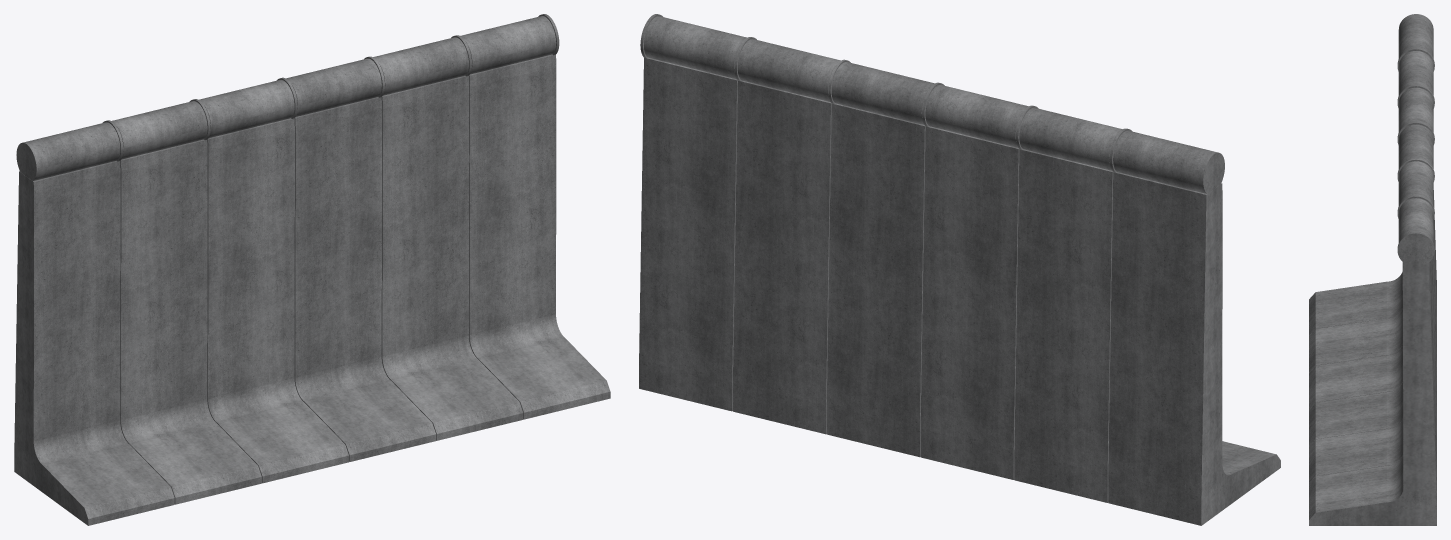
Rendered from Wall_Row6.glb.
3 views of the same model, side by side, from view 1: azimuth 30°, elevation 25°; view 2: azimuth 150°, elevation 25°; view 3: azimuth 270°, elevation 25° (orthographic). The views are drawn at different scales.
Parts seen in each view (by area): view 1: Segment_01_Slab, Segment_02_Slab, Segment_03_Slab, Segment_06_Slab, Segment_04_Slab, Segment_05_Slab, Segment_01_Pipe, Segment_02_Pipe, Segment_03_Pipe, Segment_04_Pipe, Segment_05_Pipe, Segment_06_Pipe; view 2: Segment_01_Slab, Segment_04_Slab, Segment_02_Slab, Segment_03_Slab, Segment_06_Slab, Segment_05_Slab, Segment_01_Pipe, Segment_05_Pipe, Segment_04_Pipe, Segment_06_Pipe, Segment_02_Pipe, Segment_03_Pipe; view 3: Segment_06_Slab, Segment_05_Slab, Segment_04_Slab, Segment_03_Slab, Segment_02_Slab, Segment_01_Slab, Segment_06_Pipe, Segment_05_Pipe, Segment_03_Pipe, Segment_04_Pipe, Segment_01_Pipe, Segment_02_Pipe.
Boxes of the visible parts, x1=… form: Segment_01_Slab: x1=14, y1=161, x2=174, y2=525; Segment_02_Slab: x1=120, y1=139, x2=261, y2=504; Segment_03_Slab: x1=207, y1=118, x2=348, y2=483; Segment_06_Slab: x1=469, y1=54, x2=610, y2=419; Segment_04_Slab: x1=294, y1=97, x2=436, y2=461; Segment_05_Slab: x1=381, y1=76, x2=523, y2=440; Segment_01_Pipe: x1=16, y1=120, x2=123, y2=180; Segment_02_Pipe: x1=112, y1=99, x2=210, y2=159; Segment_03_Pipe: x1=199, y1=77, x2=297, y2=137; Segment_04_Pipe: x1=286, y1=56, x2=384, y2=116; Segment_05_Pipe: x1=373, y1=35, x2=472, y2=95; Segment_06_Pipe: x1=460, y1=14, x2=559, y2=74; Segment_01_Slab: x1=1108, y1=172, x2=1280, y2=525; Segment_04_Slab: x1=826, y1=103, x2=925, y2=457; Segment_02_Slab: x1=1014, y1=149, x2=1113, y2=502; Segment_03_Slab: x1=920, y1=126, x2=1019, y2=479; Segment_06_Slab: x1=639, y1=57, x2=737, y2=411; Segment_05_Slab: x1=733, y1=80, x2=831, y2=434; Segment_01_Pipe: x1=1109, y1=128, x2=1224, y2=193; Segment_05_Pipe: x1=734, y1=37, x2=840, y2=101; Segment_04_Pipe: x1=828, y1=59, x2=934, y2=124; Segment_06_Pipe: x1=640, y1=14, x2=746, y2=78; Segment_02_Pipe: x1=1016, y1=105, x2=1122, y2=170; Segment_03_Pipe: x1=922, y1=82, x2=1028, y2=147; Segment_06_Slab: x1=1309, y1=262, x2=1436, y2=525; Segment_05_Slab: x1=1309, y1=261, x2=1436, y2=482; Segment_04_Slab: x1=1309, y1=259, x2=1436, y2=446; Segment_03_Slab: x1=1309, y1=257, x2=1436, y2=409; Segment_02_Slab: x1=1309, y1=227, x2=1436, y2=372; Segment_01_Slab: x1=1309, y1=190, x2=1436, y2=335; Segment_06_Pipe: x1=1397, y1=198, x2=1434, y2=262; Segment_05_Pipe: x1=1397, y1=161, x2=1434, y2=218; Segment_03_Pipe: x1=1397, y1=87, x2=1434, y2=144; Segment_04_Pipe: x1=1397, y1=124, x2=1434, y2=181; Segment_01_Pipe: x1=1397, y1=14, x2=1434, y2=71; Segment_02_Pipe: x1=1397, y1=51, x2=1434, y2=108.
Bounding box in the file's own units: 14.38 × 8.89 × 3.52.
Materials: 1 (1 with a texture image).
